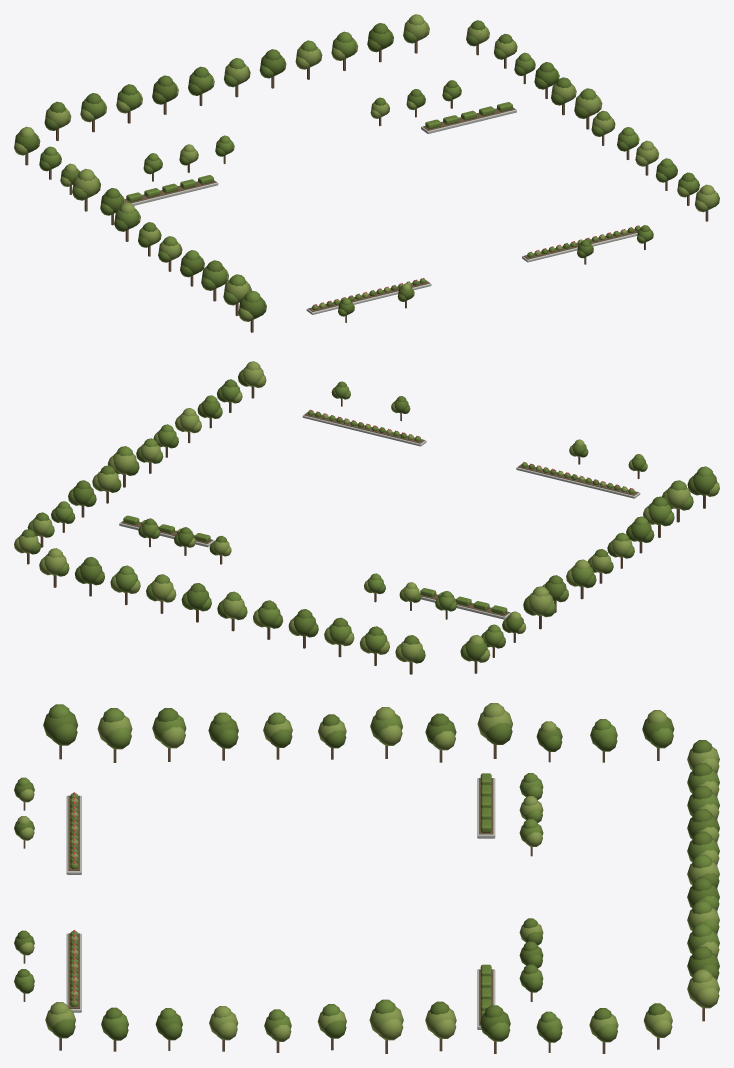
File: trees.glb
The picture shows the model from 3 angles, top to bottom: view 1: azimuth 30°, elevation 25°; view 2: azimuth 150°, elevation 25°; view 3: azimuth 270°, elevation 25°; orthographic projection. The views are drawn at different scales.
Parts seen in each view (by area): view 1: Tree crown.180, Tree crown.186, Tree crown.181, Tree trunk.045, VIP garden edge.002; view 2: Tree crown.181, Tree crown.186, Tree crown.180, Tree trunk.045, VIP garden edge.002; view 3: Tree crown.186, Tree crown.181, Tree crown.180, Tree trunk.045, VIP garden edge.002.
Part boxes in pixels (box(x1,y1,x2,y2)): Tree crown.180: box(35, 30, 698, 316); Tree crown.186: box(14, 20, 719, 319); Tree crown.181: box(14, 14, 718, 321); Tree trunk.045: box(25, 41, 708, 332); VIP garden edge.002: box(125, 107, 637, 314); Tree crown.181: box(14, 361, 719, 662); Tree crown.186: box(21, 369, 717, 663); Tree crown.180: box(27, 384, 713, 661); Tree trunk.045: box(27, 386, 705, 674); VIP garden edge.002: box(119, 412, 640, 619); Tree crown.186: box(14, 708, 719, 1042); Tree crown.181: box(17, 703, 719, 1041); Tree crown.180: box(14, 704, 719, 1042); Tree trunk.045: box(23, 745, 704, 1053); VIP garden edge.002: box(66, 778, 495, 1029).
Size of the model in its own units: 81.63 by 6.69 by 77.97.
